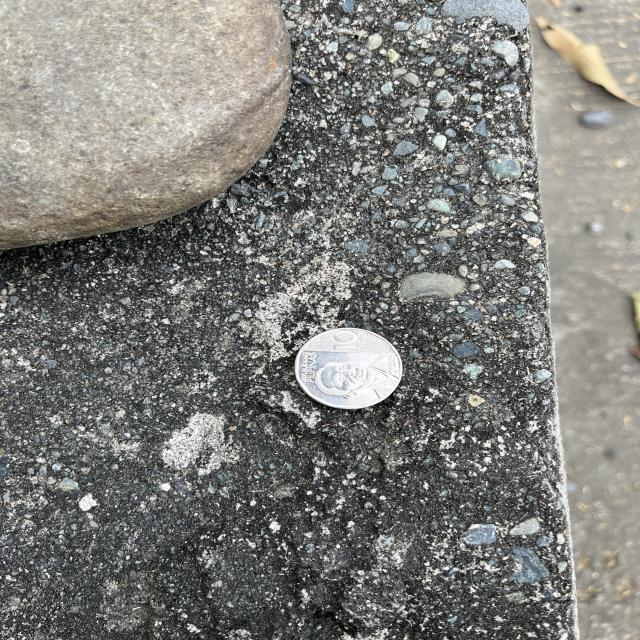10_New_Front: (322, 329, 374, 364)
